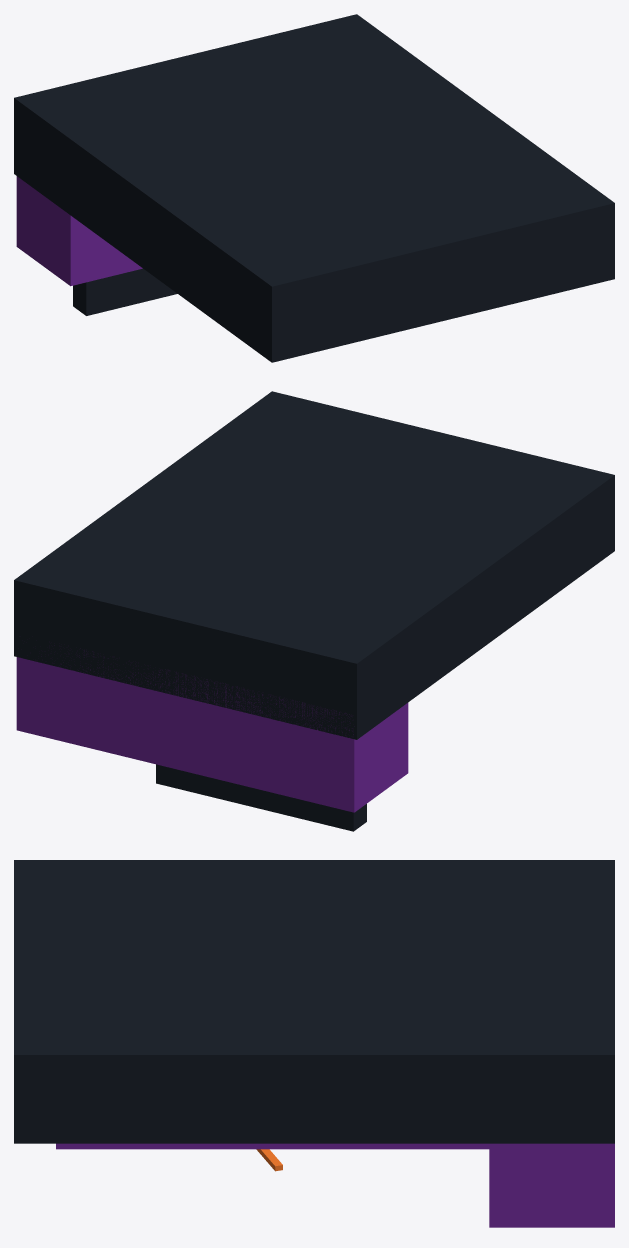
Rendered from eva15_reference_cabinet.glb.
3 views of the same model, one above another, from view 1: azimuth 30°, elevation 25°; view 2: azimuth 150°, elevation 25°; view 3: azimuth 270°, elevation 25° (orthographic). The views are drawn at different scales.
Parts seen in each view (by area): view 1: Eva15ReferenceCabinet; view 2: Eva15ReferenceCabinet; view 3: Eva15ReferenceCabinet.
Part boxes in pixels (left/top/right/bottom): Eva15ReferenceCabinet: left=14, top=14, right=614, bottom=362; Eva15ReferenceCabinet: left=14, top=391, right=614, bottom=831; Eva15ReferenceCabinet: left=14, top=860, right=614, bottom=1227.
Bounding box in the file's own units: 0.66 × 0.36 × 0.86.
